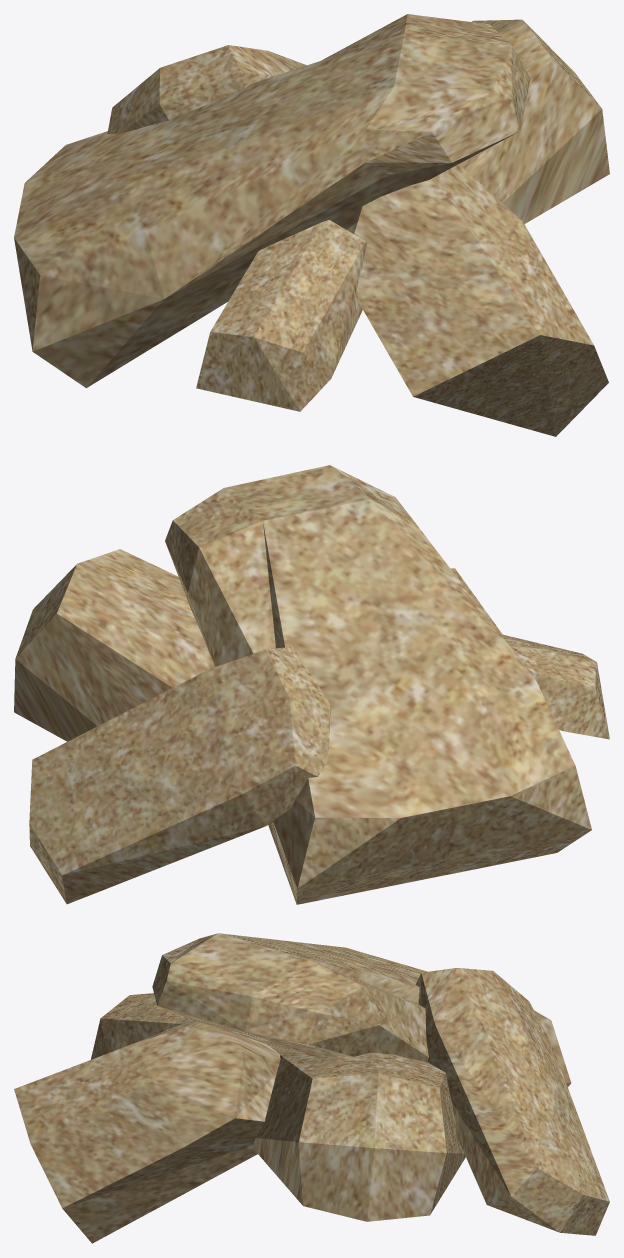
The model's file is tatt_rock_formation_a1_l2.fbx.
3 views of the same model, one above another, from view 1: azimuth 30°, elevation 25°; view 2: azimuth 150°, elevation 25°; view 3: azimuth 270°, elevation 25° (orthographic). The views are drawn at different scales.
Parts seen in each view (by area): view 1: mesh_node; view 2: mesh_node; view 3: mesh_node.
Part boxes in pixels (x1,y1,x2,y2): mesh_node: (14,14,609,436); mesh_node: (14,465,609,904); mesh_node: (14,933,609,1243).
Bounding box in the file's own units: 11.04 × 5.77 × 11.4.
1 material, 1 textured.
